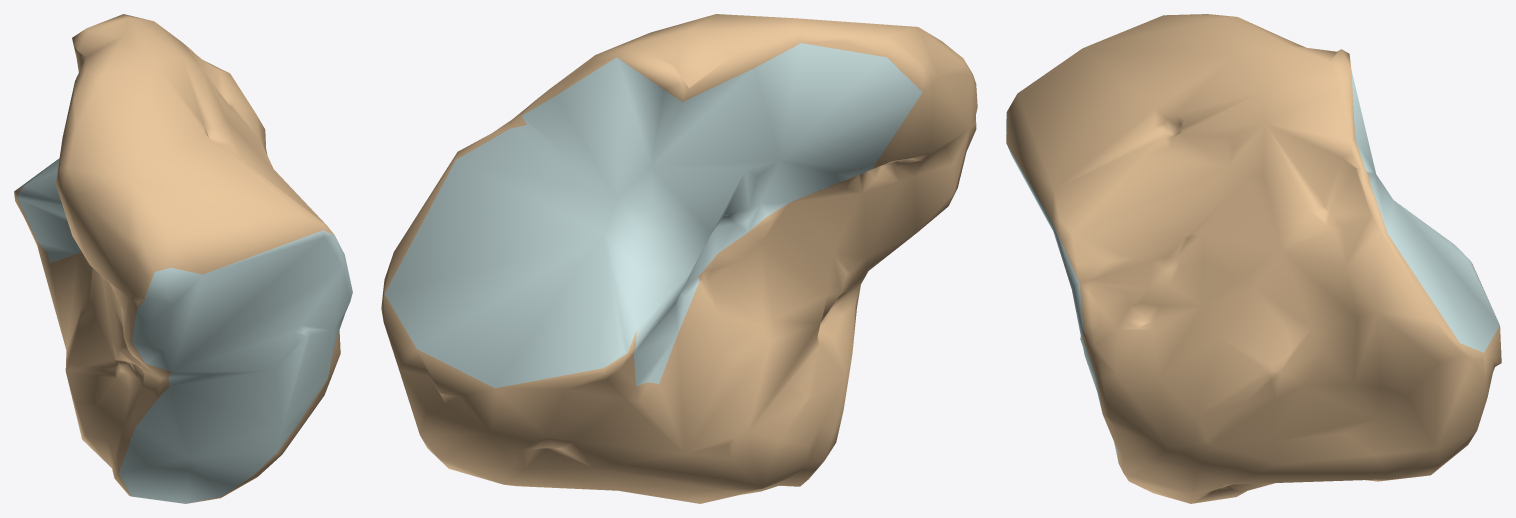
File: Cuneiform_medial_bone_right.glb
The picture shows the model from 3 angles, left to right: view 1: azimuth 30°, elevation 25°; view 2: azimuth 150°, elevation 25°; view 3: azimuth 270°, elevation 25°; orthographic projection. The views are drawn at different scales.
Parts seen in each view (by area): view 1: Medial_cuneiform_bone.r_Generated_Mesh_From_X3D.784; view 2: Medial_cuneiform_bone.r_Generated_Mesh_From_X3D.784; view 3: Medial_cuneiform_bone.r_Generated_Mesh_From_X3D.784.
Part boxes in pixels (bbox=[...]): Medial_cuneiform_bone.r_Generated_Mesh_From_X3D.784: bbox=[14, 14, 352, 503]; Medial_cuneiform_bone.r_Generated_Mesh_From_X3D.784: bbox=[381, 14, 977, 503]; Medial_cuneiform_bone.r_Generated_Mesh_From_X3D.784: bbox=[1006, 14, 1501, 503].
Size of the model in its own units: 0.0251 by 0.0323 by 0.033.
